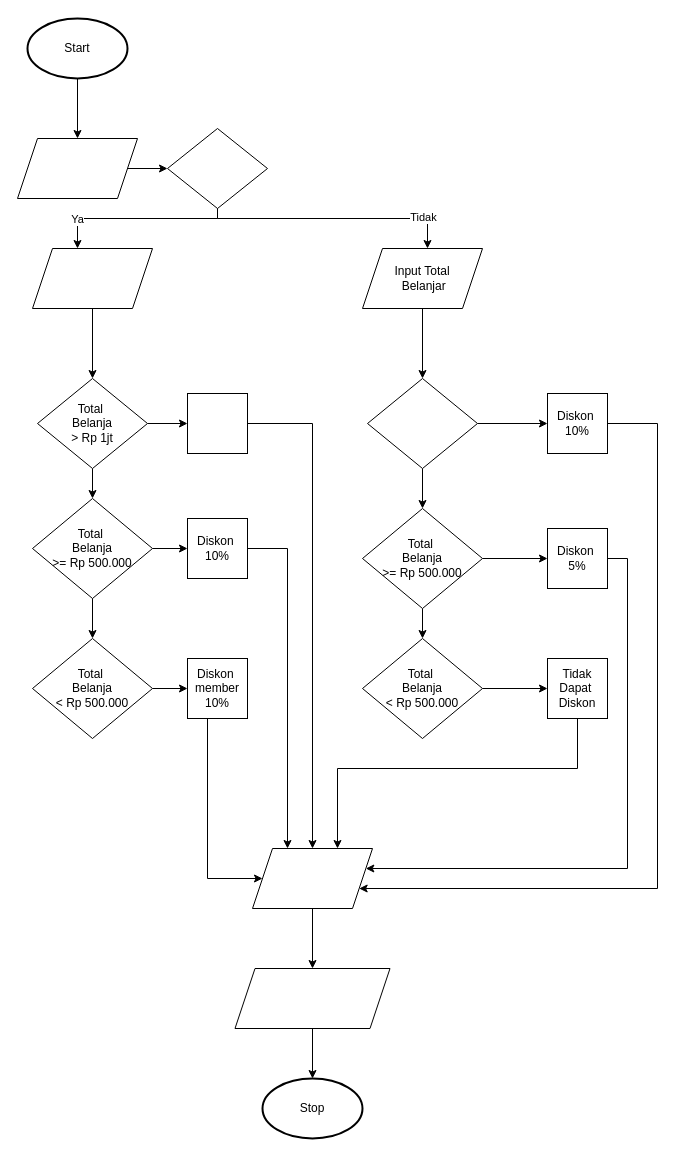
The diagram is 683 pixels wide and 1156 high, and some of its shapes have lost their labels. The shapes that lost their labels are listed below. From the top down, each one's centre as x and y in pixels, then its label:
(x=77, y=168): Input Status Bermember
(x=217, y=168): Kondisi
(x=92, y=278): Input Total Belanja
(x=217, y=423): Diskon 15%
(x=422, y=423): Total Belanja >= Rp 1jt
(x=312, y=878): Hitung Diskon
(x=312, y=998): Keterangan Total Pembayaran dan Diskon yang di dapat
